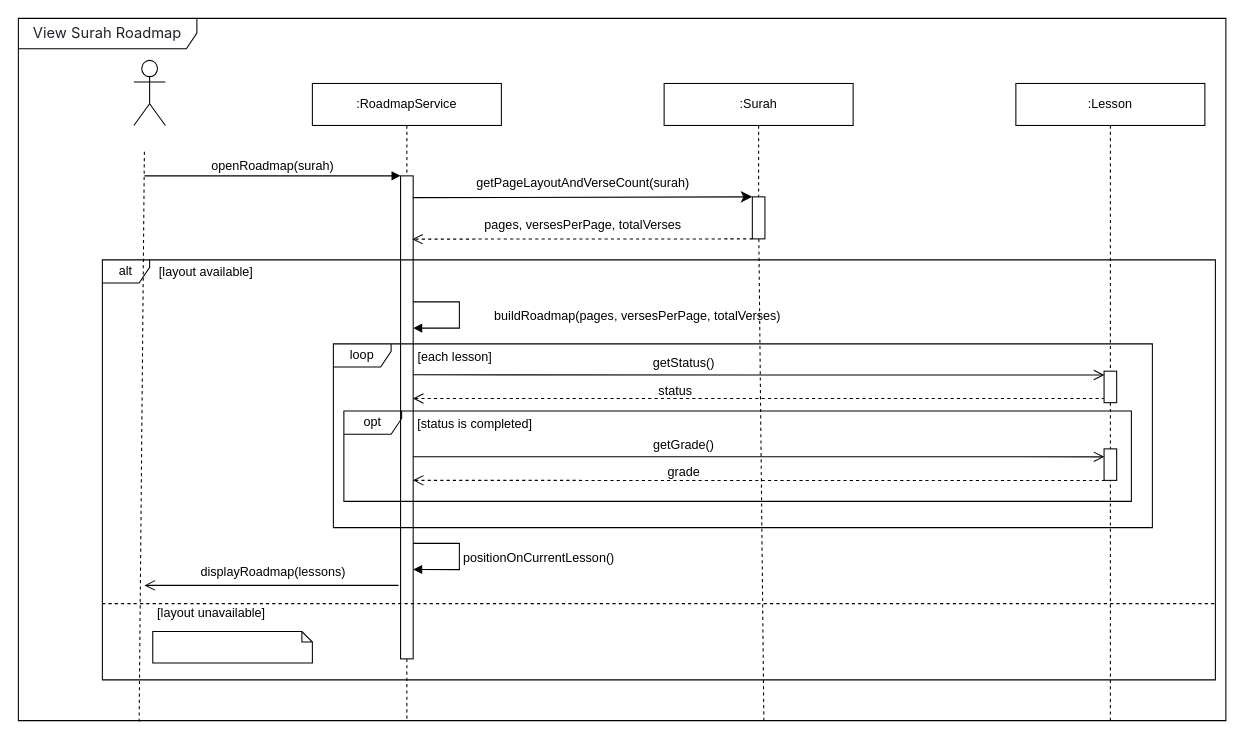
Image size: 1244x742. Some labels were removed from this diagram. Here are the shapes that lost their labels. From the top down, the centre of each, then its label:
At point 149,92: "User".
At point 232,647: "Roadmap not displayed".
